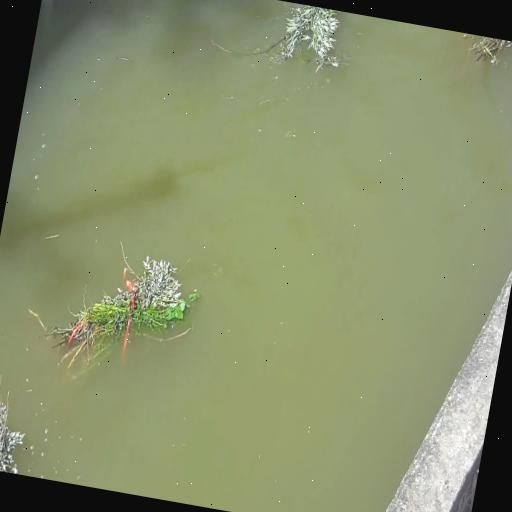twig: (31, 234, 206, 388), (204, 0, 345, 77), (0, 369, 36, 473), (462, 34, 512, 71)
